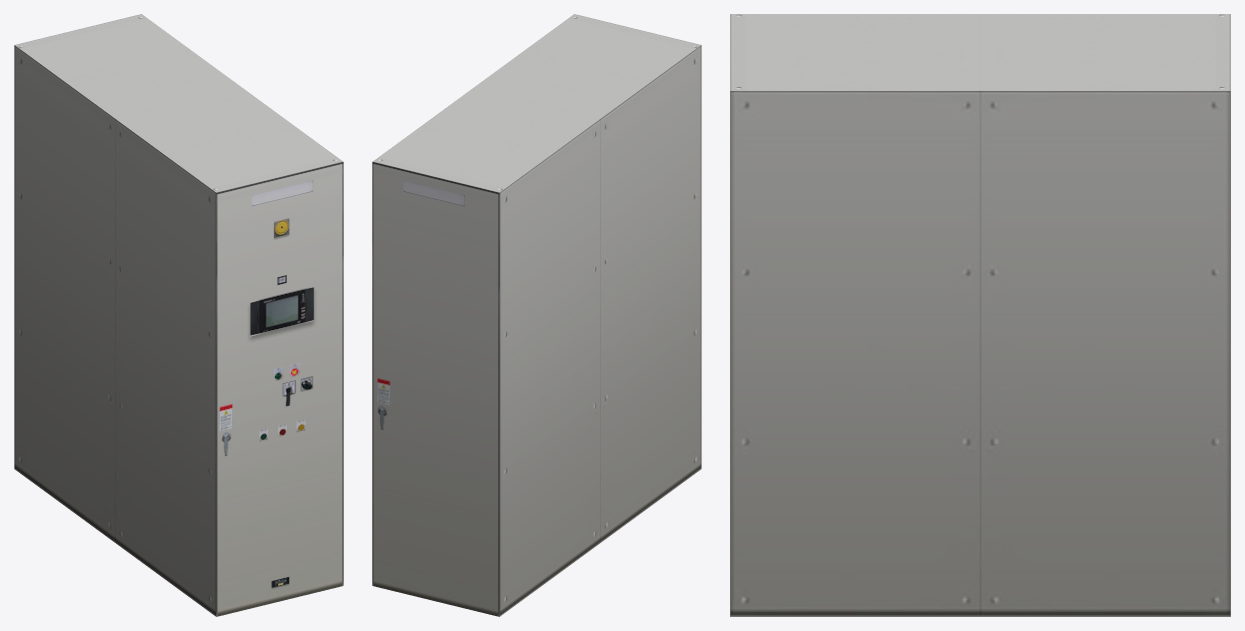
3 views of the same model, side by side, from view 1: azimuth 30°, elevation 25°; view 2: azimuth 150°, elevation 25°; view 3: azimuth 270°, elevation 25° (orthographic). The views are drawn at different scales.
Visible parts, largest first — view 1: HV_1P_01; view 2: HV_1P_01; view 3: HV_1P_01.
Part boxes in pixels (bbox=[...]): HV_1P_01: bbox=[14, 14, 343, 616]; HV_1P_01: bbox=[372, 14, 701, 616]; HV_1P_01: bbox=[730, 14, 1230, 616].
Bounding box in the file's own units: 0.8 × 2.55 × 2.2.
Materials: 1 (1 with a texture image).
